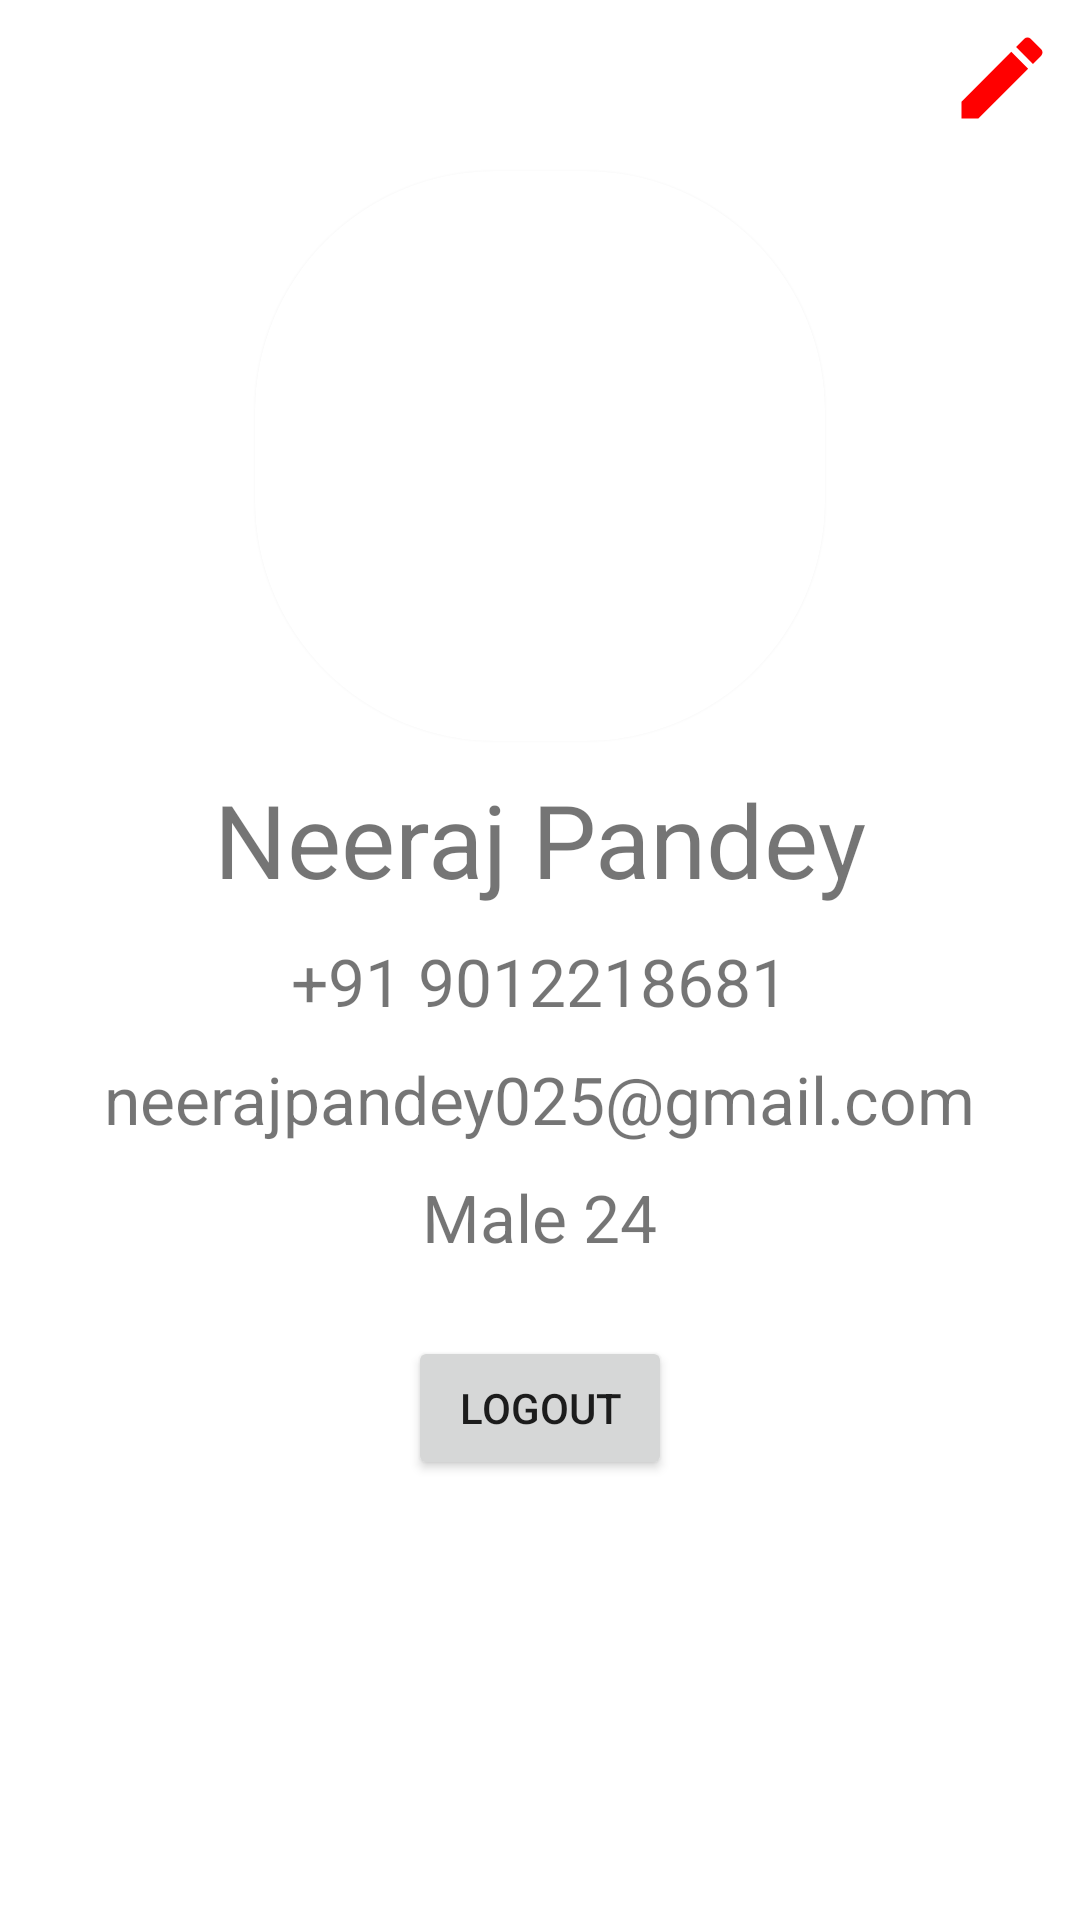

Where icons sit on this 1080*1920 app screen, as region(x1, y1, x2, y2):
edit: region(961, 37, 1043, 119)
